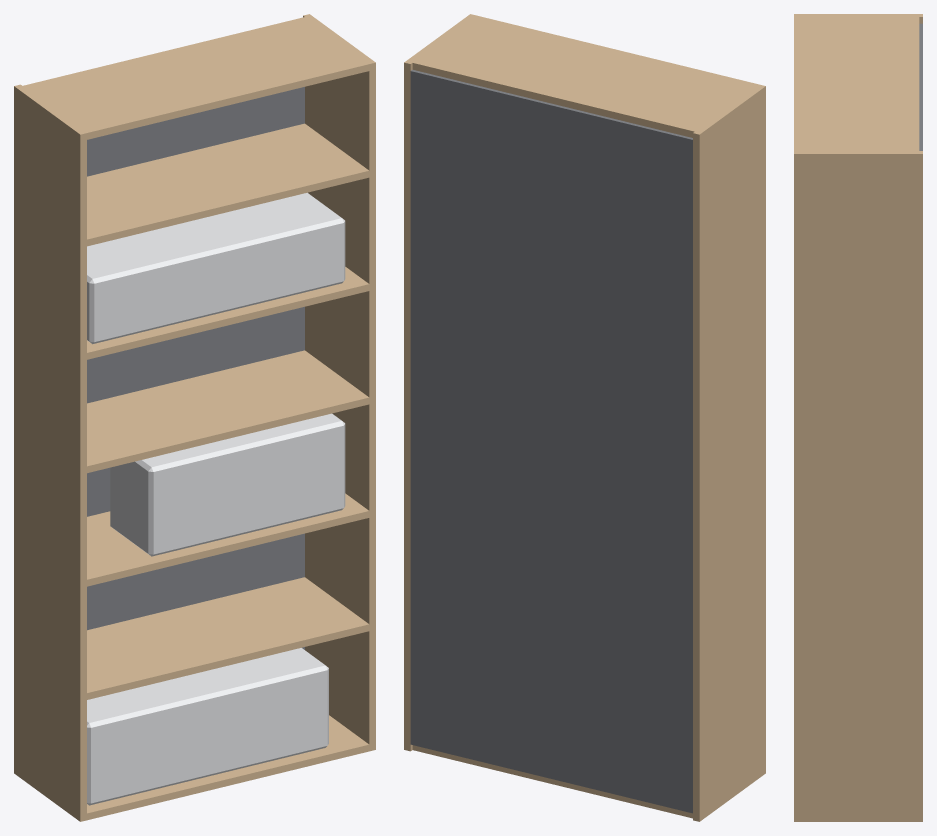
The model's file is bookshelf.glb.
3 views of the same model, side by side, from view 1: azimuth 30°, elevation 25°; view 2: azimuth 150°, elevation 25°; view 3: azimuth 270°, elevation 25° (orthographic). The views are drawn at different scales.
Visible parts, largest first — view 1: bookshelf; view 2: bookshelf; view 3: bookshelf.
Boxes of the visible parts, left/top/right/bottom form: bookshelf: left=14, top=14, right=375, bottom=821; bookshelf: left=404, top=14, right=765, bottom=821; bookshelf: left=794, top=14, right=922, bottom=821.
Size of the model in its own units: 0.9 by 2 by 0.35.
